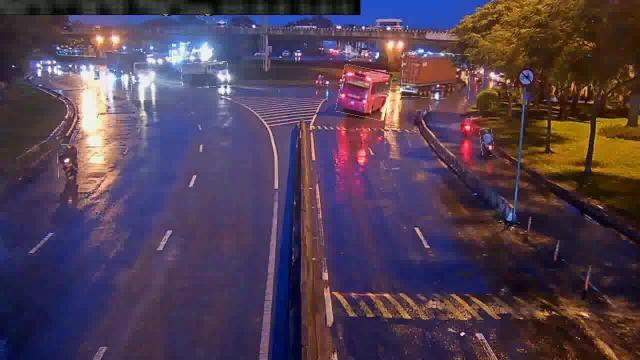Bike: (58, 145, 78, 181), (480, 128, 494, 156)
Bus: (338, 65, 390, 118)
Truck: (402, 53, 470, 99), (182, 62, 228, 88)
